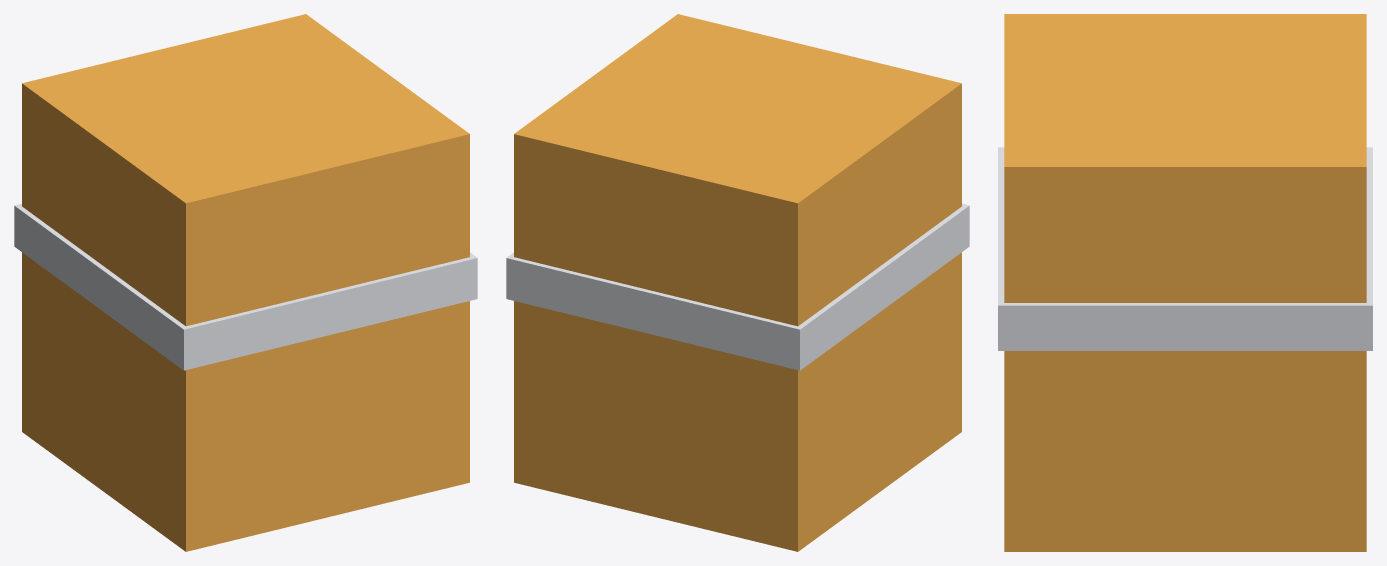
File: mecanico_espacial_manga_sup.glb
3 views of the same model, side by side, from view 1: azimuth 30°, elevation 25°; view 2: azimuth 150°, elevation 25°; view 3: azimuth 270°, elevation 25° (orthographic). The views are drawn at different scales.
Parts seen in each view (by area): view 1: mecanico_espacial_manga_sup; view 2: mecanico_espacial_manga_sup; view 3: mecanico_espacial_manga_sup.
Boxes of the visible parts, x1,y1,x2,y2 form: mecanico_espacial_manga_sup: (14, 14, 477, 551); mecanico_espacial_manga_sup: (506, 14, 969, 551); mecanico_espacial_manga_sup: (998, 14, 1372, 551).
Size of the model in its own units: 0.3 by 0.34 by 0.3.
